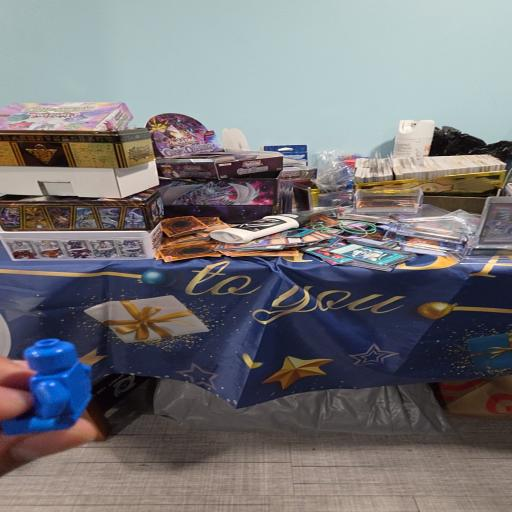Blue: (3, 339, 91, 435)
